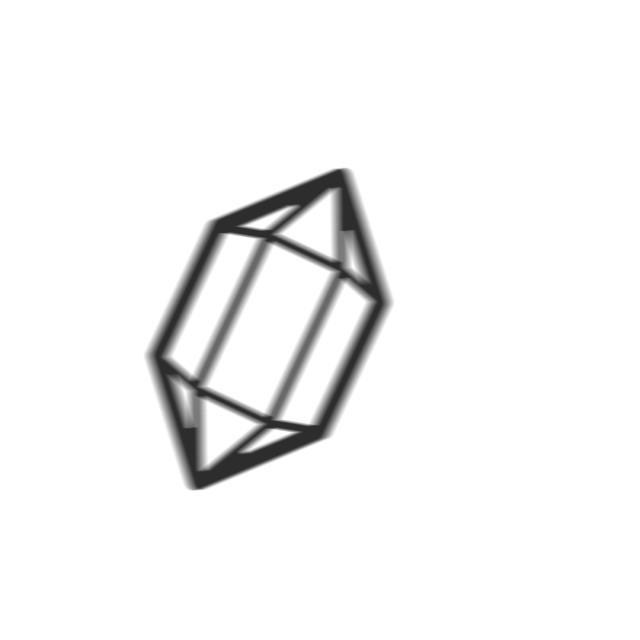crystal: (138, 160, 400, 502)
